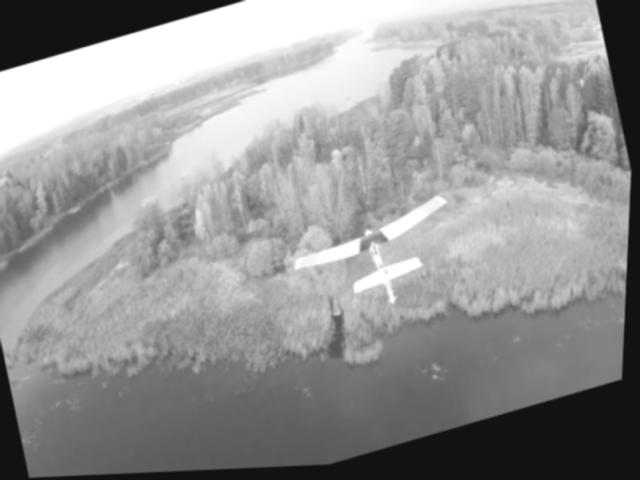hedef: (294, 196, 470, 323)
